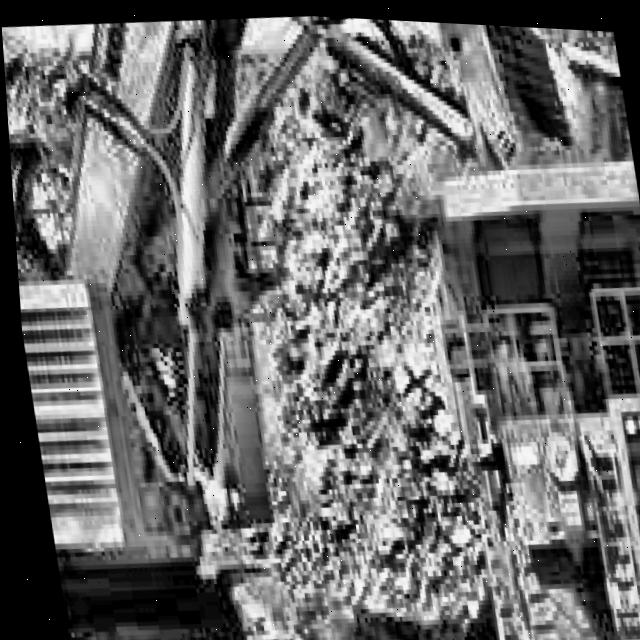dump_truck: (390, 100, 640, 640)
excavator: (0, 0, 640, 640)
